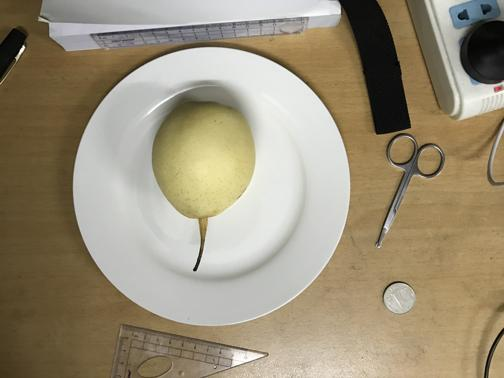coin: (382, 280, 416, 315)
pear: (155, 101, 254, 216)
